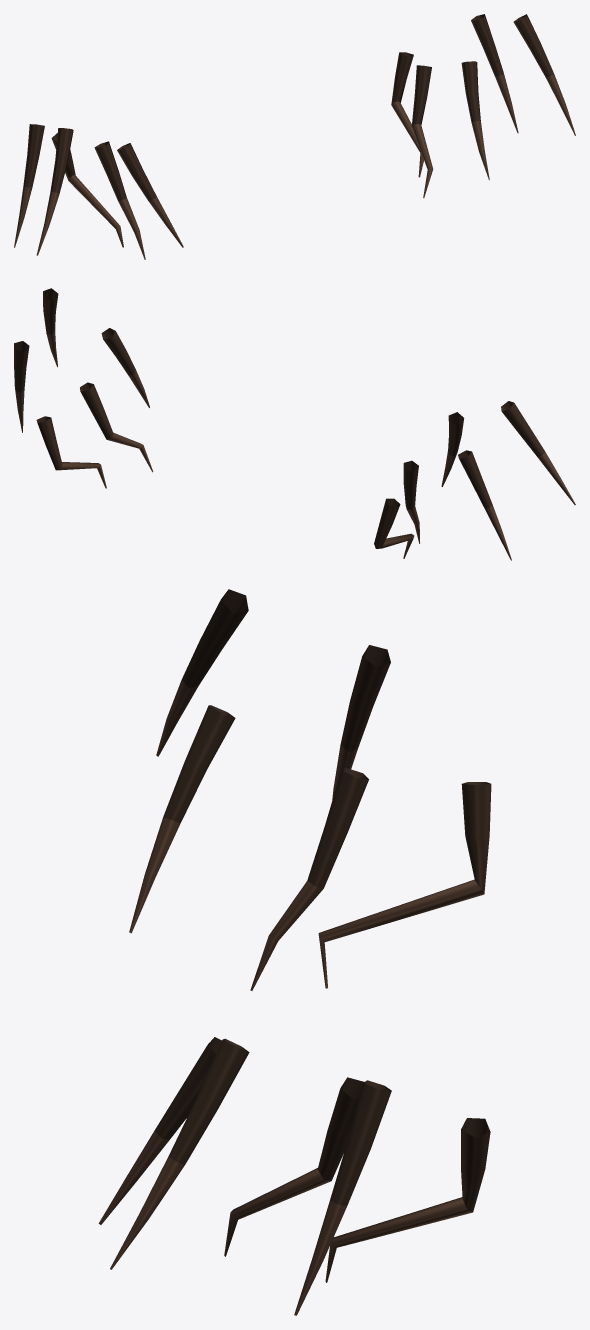
Rendered from vincentt-nasal-hair-wisps.glb.
3 renders of one model, top to bottom at view 1: azimuth 30°, elevation 25°; view 2: azimuth 150°, elevation 25°; view 3: azimuth 270°, elevation 25°, orthographic. The views are drawn at different scales.
Parts seen in each view (by area): view 1: nhw_sty_hair, nhw_sty_tips; view 2: nhw_sty_hair, nhw_sty_tips; view 3: nhw_sty_hair, nhw_sty_tips.
Boxes of the visible parts, bbox=[...] form: nhw_sty_hair: bbox=[23, 14, 553, 201]; nhw_sty_tips: bbox=[14, 73, 575, 259]; nhw_sty_hair: bbox=[14, 288, 544, 548]; nhw_sty_tips: bbox=[15, 330, 575, 560]; nhw_sty_hair: bbox=[154, 589, 491, 1212]; nhw_sty_tips: bbox=[98, 680, 484, 1315].
Size of what is drawn, in the model's own units: 0.0213 by 0.0062 by 0.00687.
Materials: 2 (2 with a texture image).
